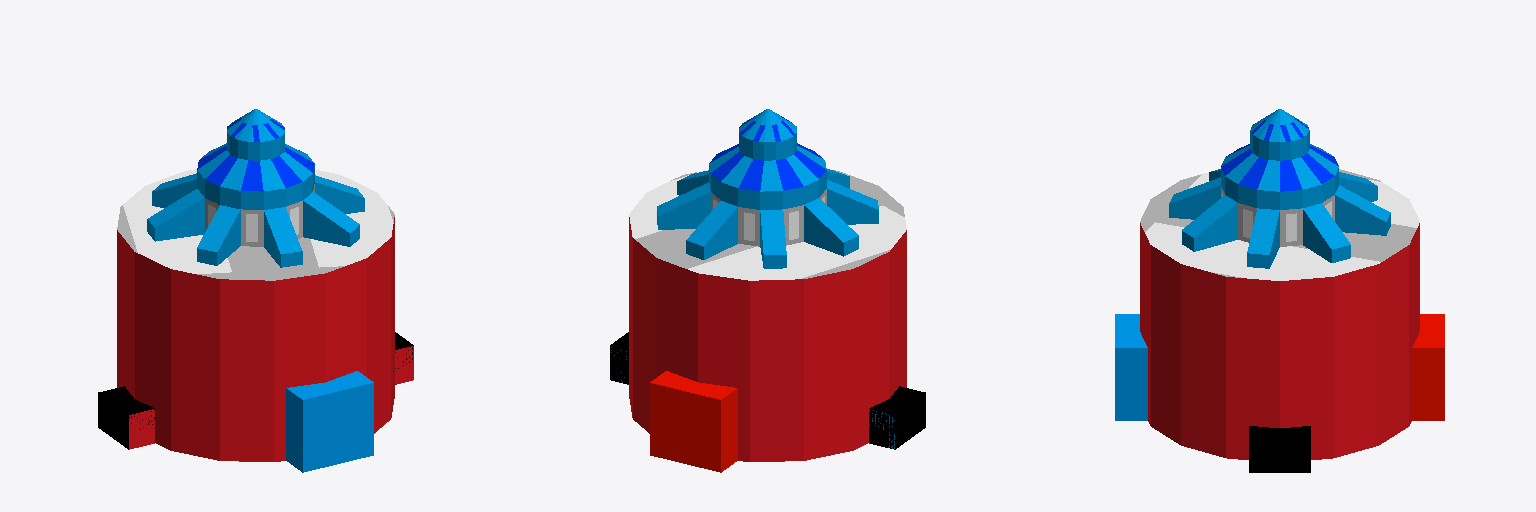
3 views of the same model, side by side, from view 1: azimuth 30°, elevation 25°; view 2: azimuth 150°, elevation 25°; view 3: azimuth 270°, elevation 25° (orthographic).
Visible parts, largest first — view 1: main; view 2: main; view 3: main.
Part boxes in pixels (x1,y1,x2,y2): main: (98, 109, 413, 472); main: (610, 109, 925, 472); main: (1115, 109, 1444, 472).
Size of the model in its own units: 1.01 by 1 by 1.01.
1 materials, 1 textured.